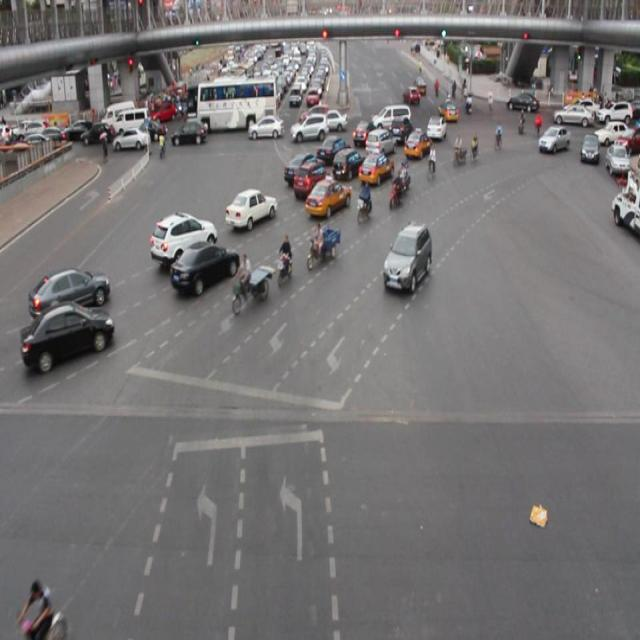car: (20, 302, 114, 366), (29, 266, 110, 316), (170, 238, 242, 289), (151, 209, 218, 263), (382, 223, 432, 288), (225, 189, 277, 231), (304, 175, 350, 216), (292, 161, 329, 197), (357, 149, 393, 185), (283, 152, 318, 184), (536, 123, 568, 157), (331, 148, 364, 180), (363, 127, 396, 157), (317, 133, 348, 162), (402, 128, 429, 160)
